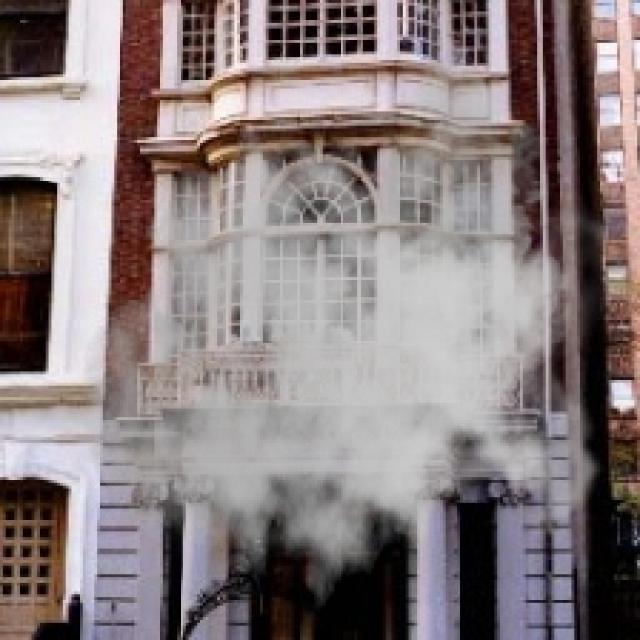smoke: (80, 63, 609, 631)
